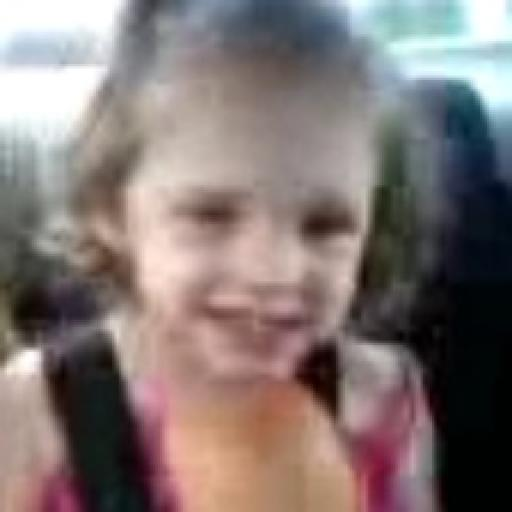Autism: (89, 10, 474, 390)
